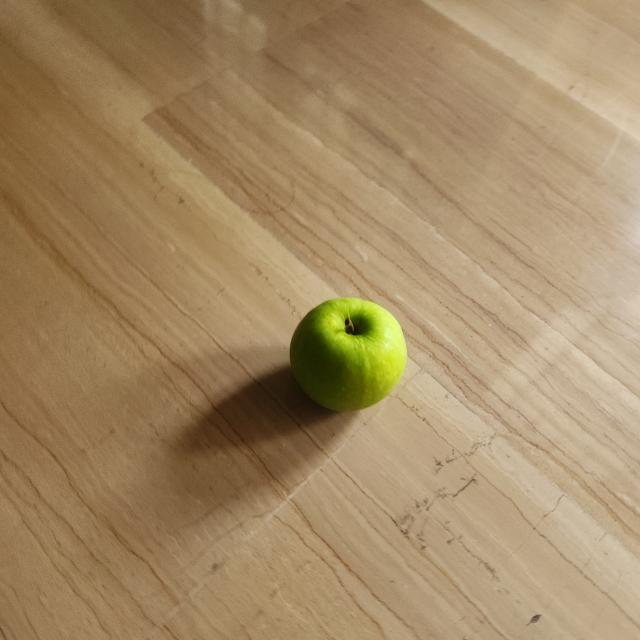apple: (274, 289, 413, 415)
